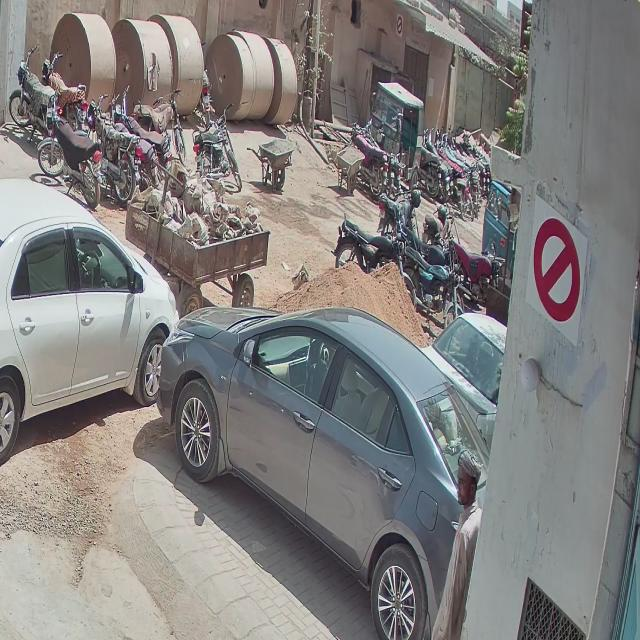bike: (37, 94, 106, 207), (86, 94, 142, 208), (113, 84, 172, 170), (9, 46, 60, 143), (332, 211, 404, 276), (111, 93, 159, 188), (131, 89, 187, 166), (192, 103, 242, 189), (405, 241, 463, 313), (42, 54, 88, 130), (350, 123, 388, 200), (453, 242, 500, 300), (403, 218, 454, 268), (377, 187, 419, 237), (422, 204, 454, 246), (420, 146, 441, 197), (202, 72, 215, 126)
car: (160, 307, 487, 640), (0, 178, 178, 470), (428, 314, 507, 433)
